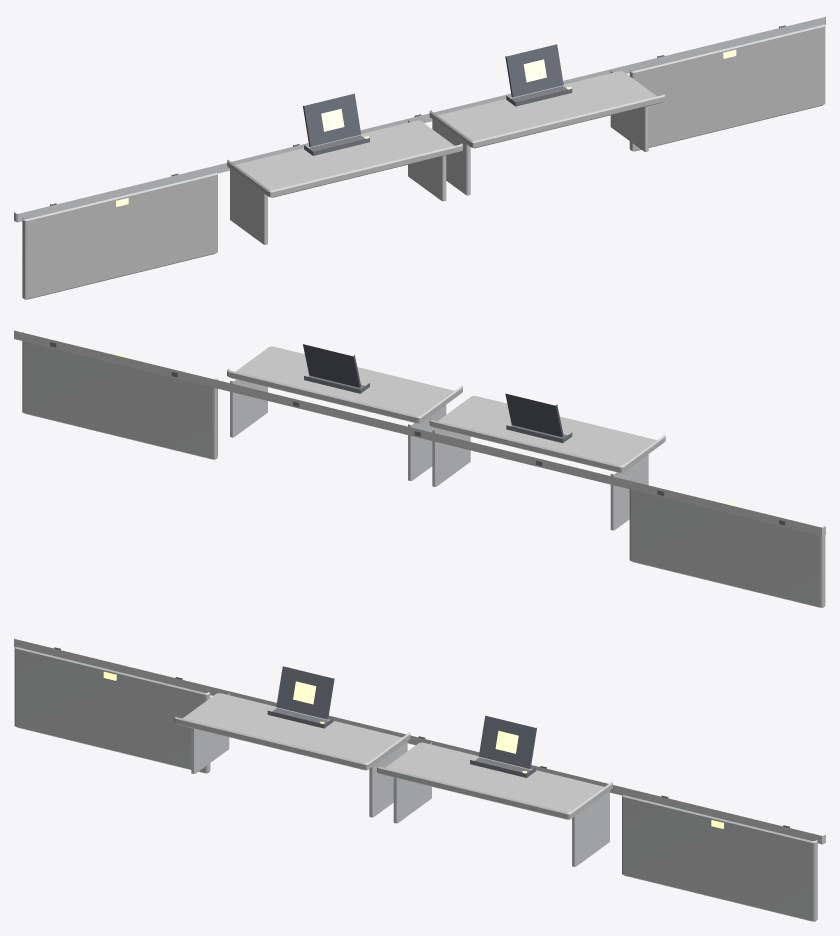
File: iter_04.glb
The picture shows the model from 3 angles, top to bottom: view 1: azimuth 30°, elevation 25°; view 2: azimuth 150°, elevation 25°; view 3: azimuth 330°, elevation 25°; orthographic projection.
Visible parts, largest first — view 1: Leaves, Leaf_Stays, Wall_Rail, Data_Slates, Slate_Cradles, Slate_Glyphs; view 2: Leaves, Wall_Rail, Leaf_Stays, Data_Slates, Slate_Cradles; view 3: Leaves, Leaf_Stays, Wall_Rail, Data_Slates, Slate_Cradles, Slate_Glyphs.
Part boxes in pixels (bbox=[...]): Leaves: bbox=[22, 24, 825, 299]; Leaf_Stays: bbox=[230, 71, 648, 244]; Wall_Rail: bbox=[14, 16, 825, 222]; Data_Slates: bbox=[303, 44, 563, 146]; Slate_Cradles: bbox=[304, 86, 572, 155]; Slate_Glyphs: bbox=[321, 59, 546, 131]; Leaves: bbox=[22, 332, 825, 607]; Wall_Rail: bbox=[14, 330, 825, 535]; Leaf_Stays: bbox=[230, 379, 648, 530]; Data_Slates: bbox=[303, 344, 563, 437]; Slate_Cradles: bbox=[304, 376, 572, 443]; Leaves: bbox=[14, 646, 817, 921]; Leaf_Stays: bbox=[191, 693, 609, 866]; Wall_Rail: bbox=[14, 638, 825, 844]; Data_Slates: bbox=[276, 666, 536, 768]; Slate_Cradles: bbox=[267, 708, 535, 777]; Slate_Glyphs: bbox=[293, 681, 518, 753].
Bounding box in the file's own units: 4 × 0.6212 × 0.436.
